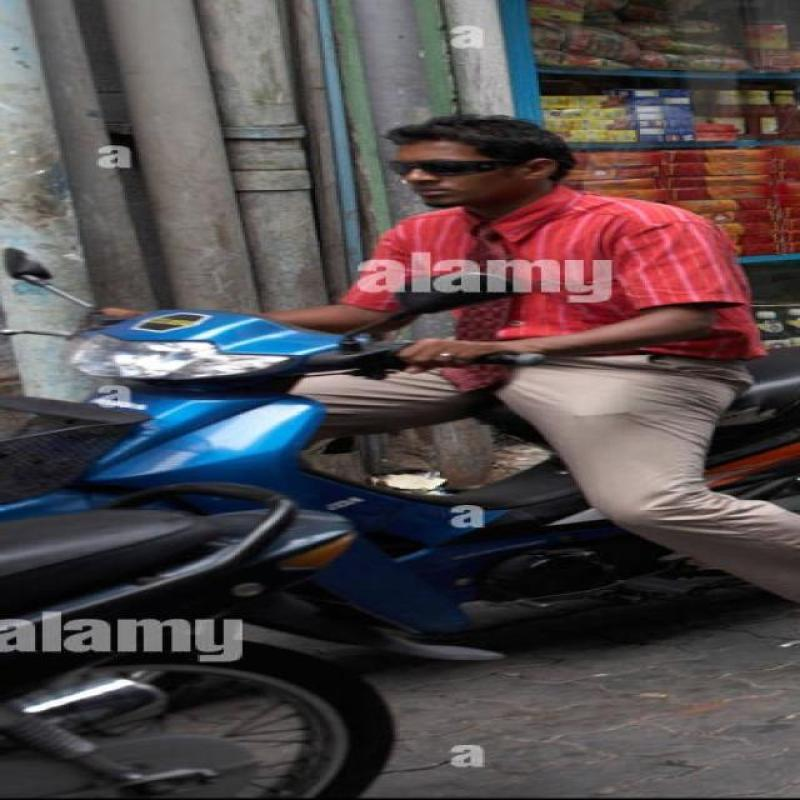nohelmet: (364, 106, 588, 216)
